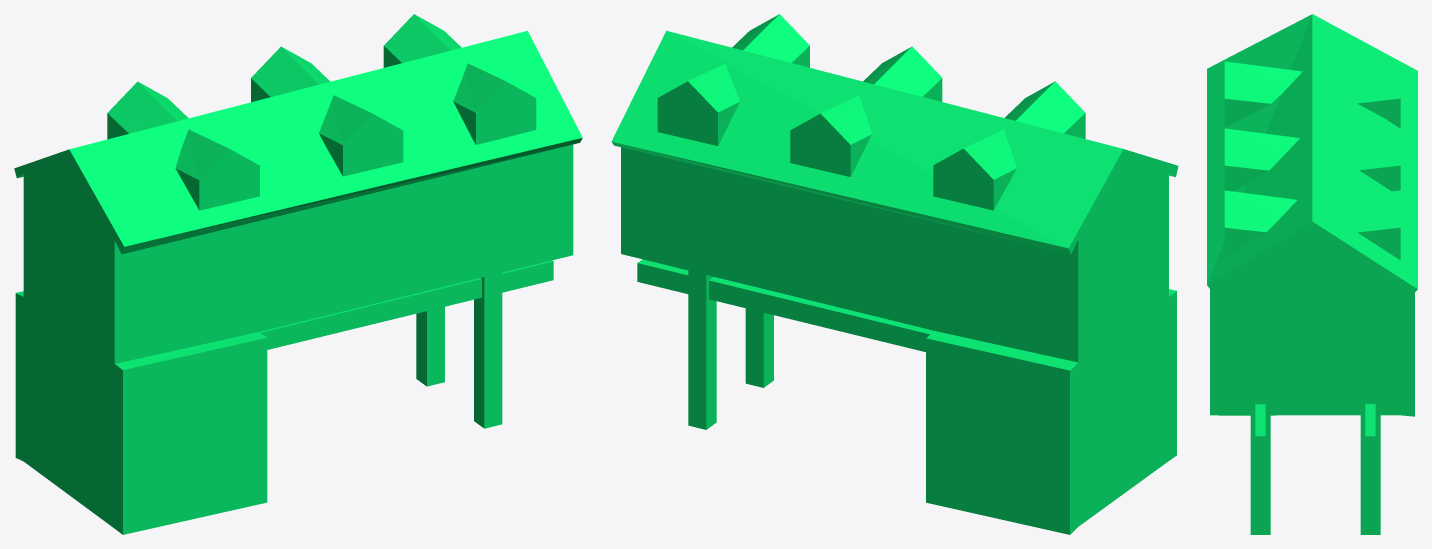
File: Garnison6_Collision.FBX
3 views of the same model, side by side, from view 1: azimuth 30°, elevation 25°; view 2: azimuth 150°, elevation 25°; view 3: azimuth 270°, elevation 25° (orthographic). The views are drawn at different scales.
Parts seen in each view (by area): view 1: Garnison6_Collision; view 2: Garnison6_Collision; view 3: Garnison6_Collision.
Boxes of the visible parts, x1=… form: Garnison6_Collision: x1=14, y1=14, x2=582, y2=534; Garnison6_Collision: x1=611, y1=14, x2=1178, y2=534; Garnison6_Collision: x1=1207, y1=14, x2=1417, y2=534.
Size of the model in its own units: 17.96 by 13.37 by 7.47.
